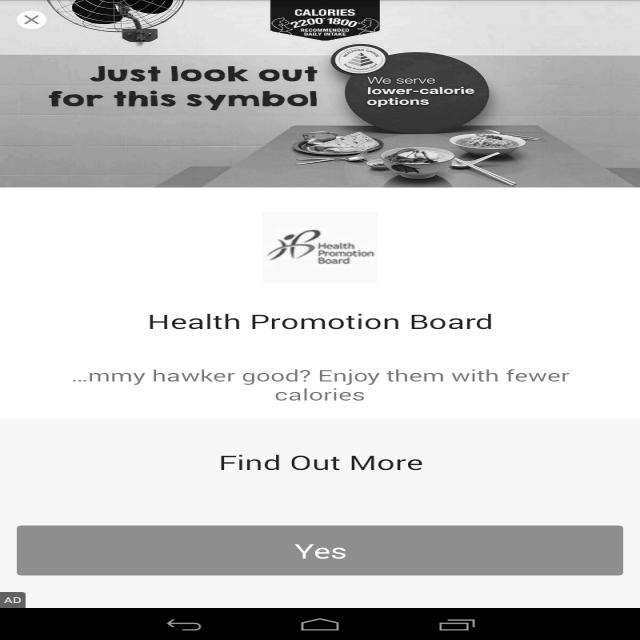Button: (6, 517, 636, 581)
ImageButton: (5, 9, 54, 30)
ImageView: (324, 38, 526, 180), (250, 215, 394, 278)
TextView: (59, 360, 596, 403), (129, 302, 525, 336), (42, 62, 321, 108), (207, 449, 460, 477)
